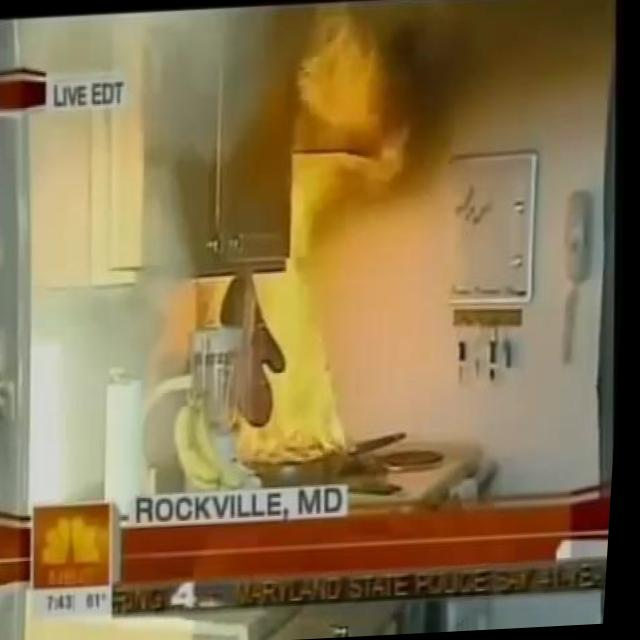fire: (203, 216, 367, 472), (275, 0, 425, 227)
